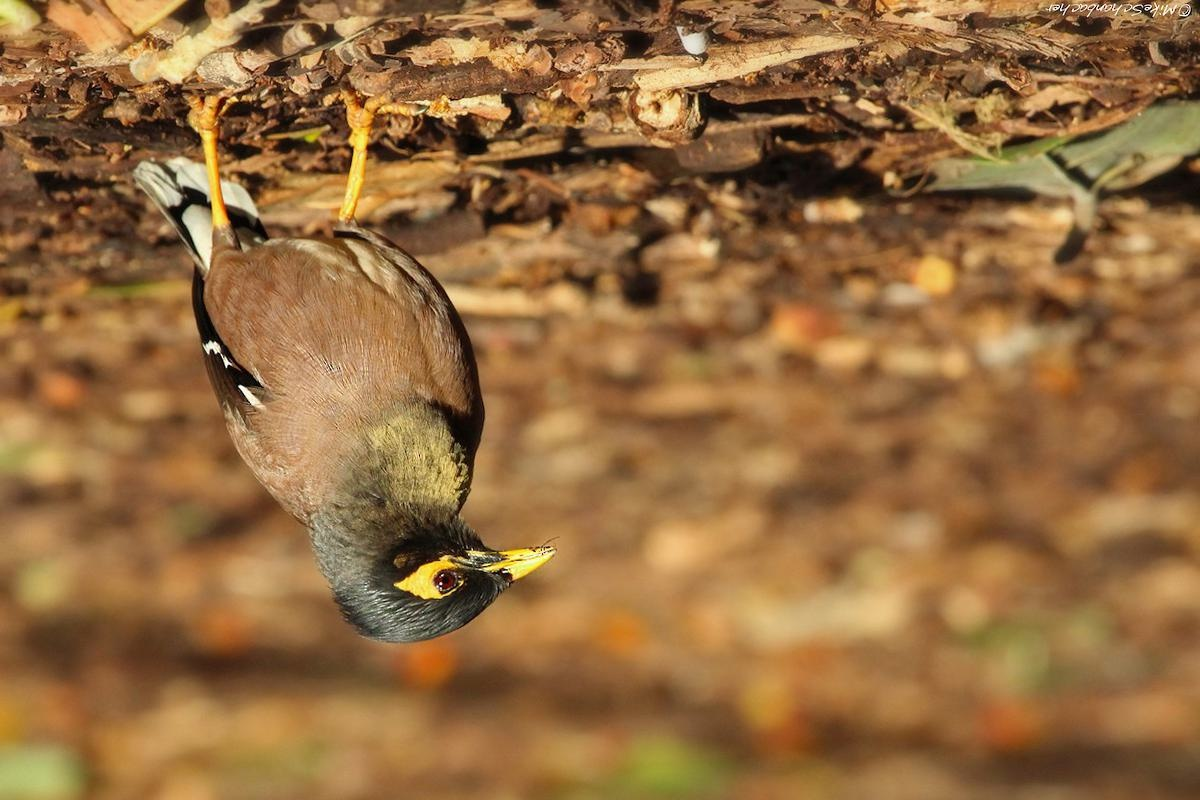myna: (127, 96, 577, 676)
